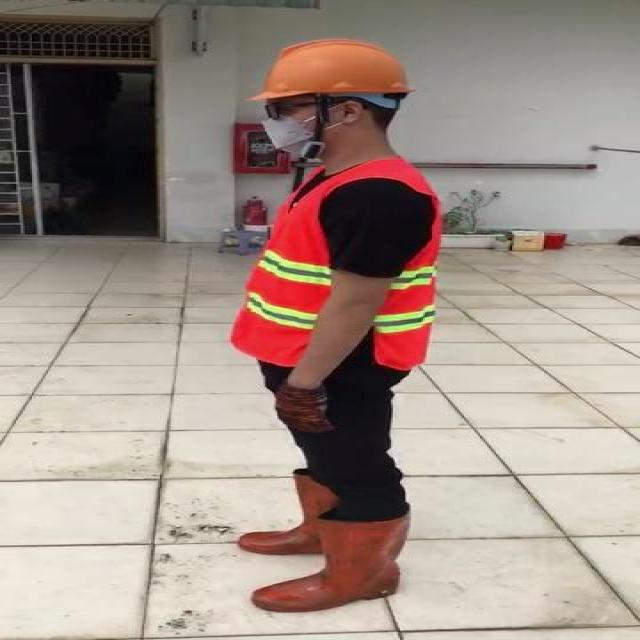boots: (252, 510, 412, 613), (240, 475, 325, 555)
face_mask: (252, 96, 348, 159)
hand_glove: (272, 384, 336, 432)
head_helmet: (250, 36, 417, 104)
person: (192, 35, 464, 640)
vest: (233, 156, 443, 369)
